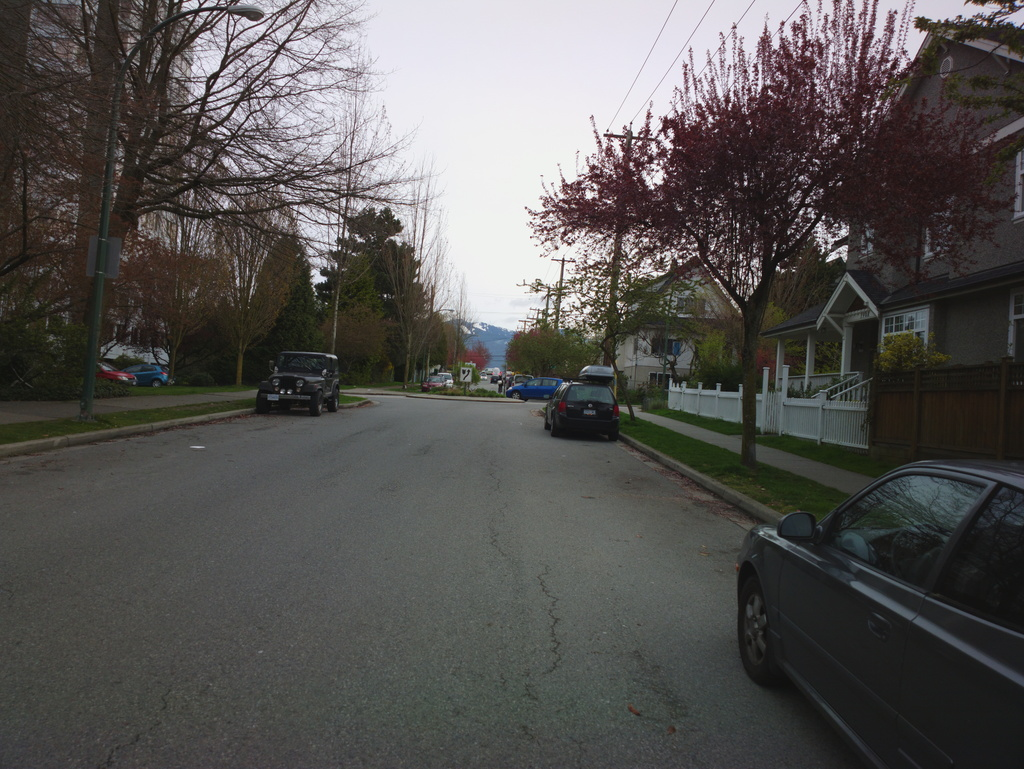Car: (726, 452, 1024, 754)
